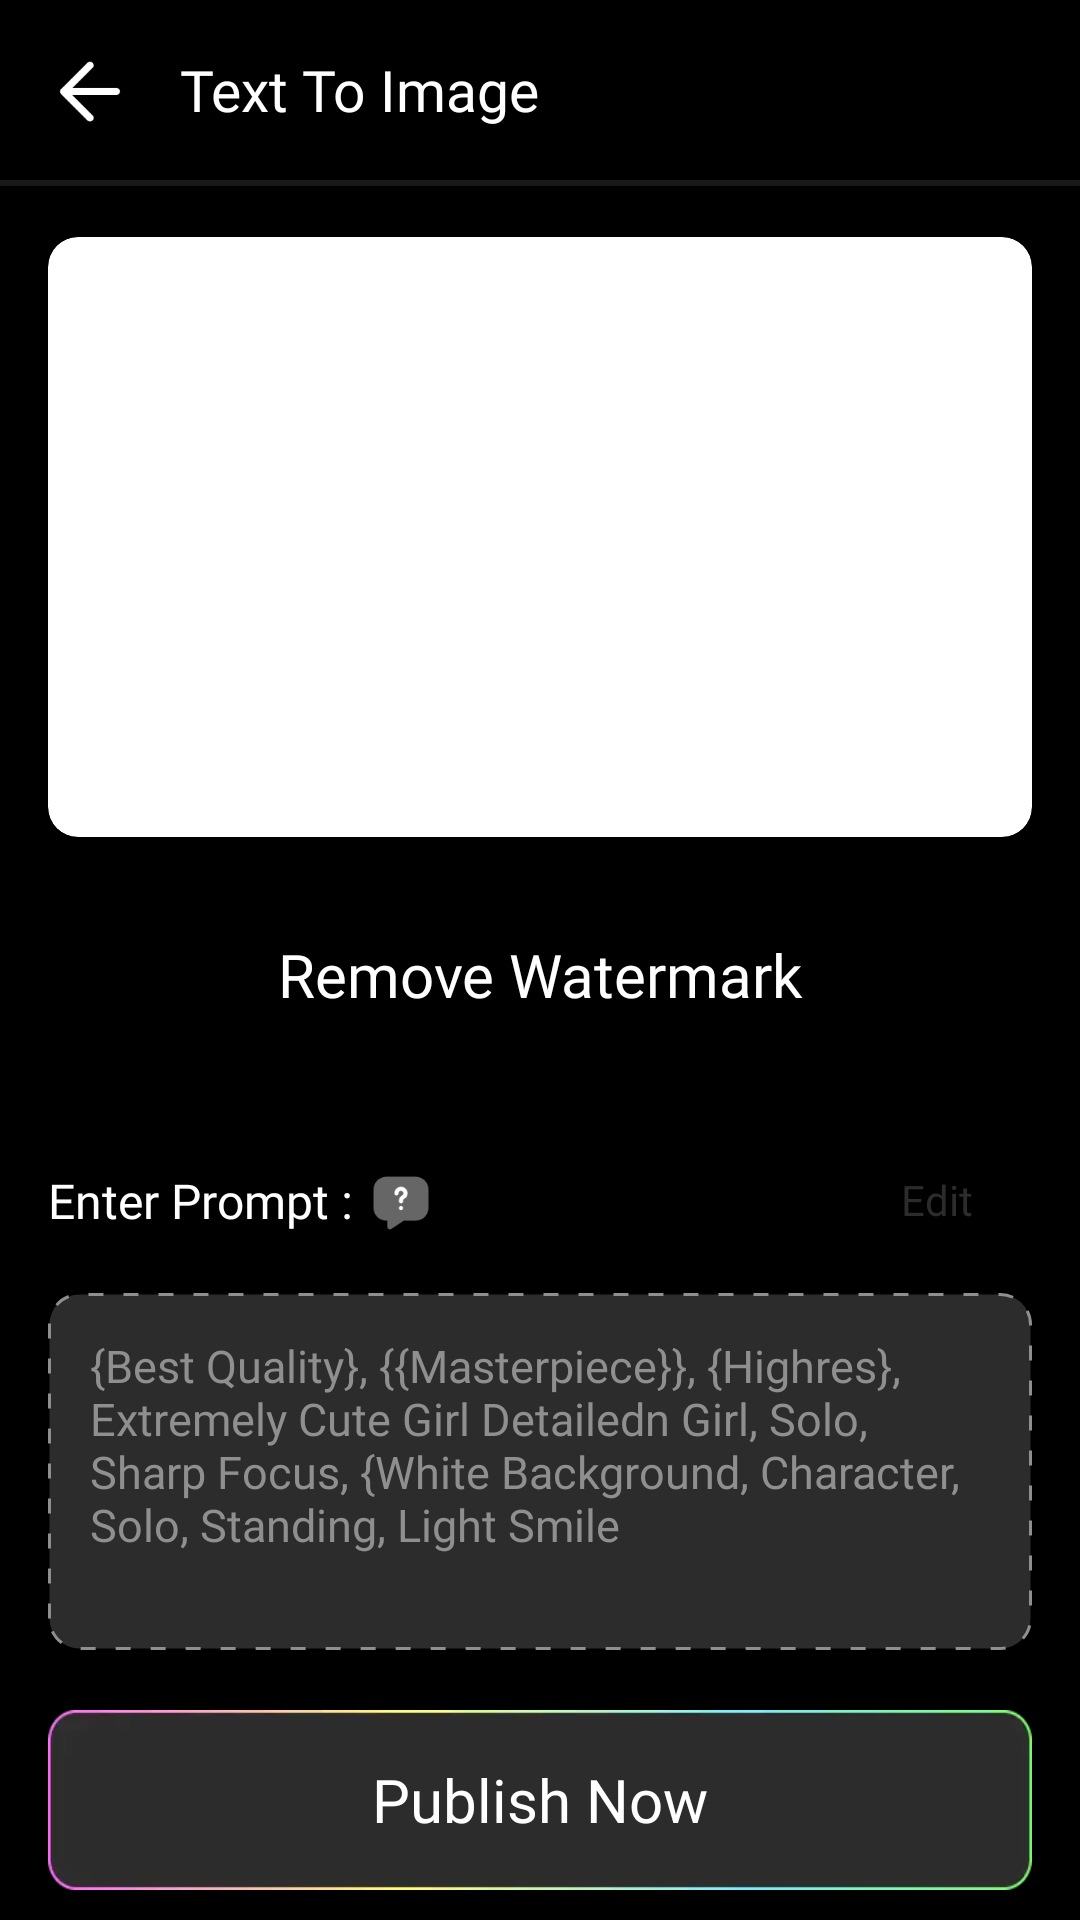

Where icons sit on this 1080w x 1920h app screen, as BBox(x1, y1, x2, y2):
back: BBox(60, 61, 120, 122)
message question: BBox(373, 1176, 429, 1230)
